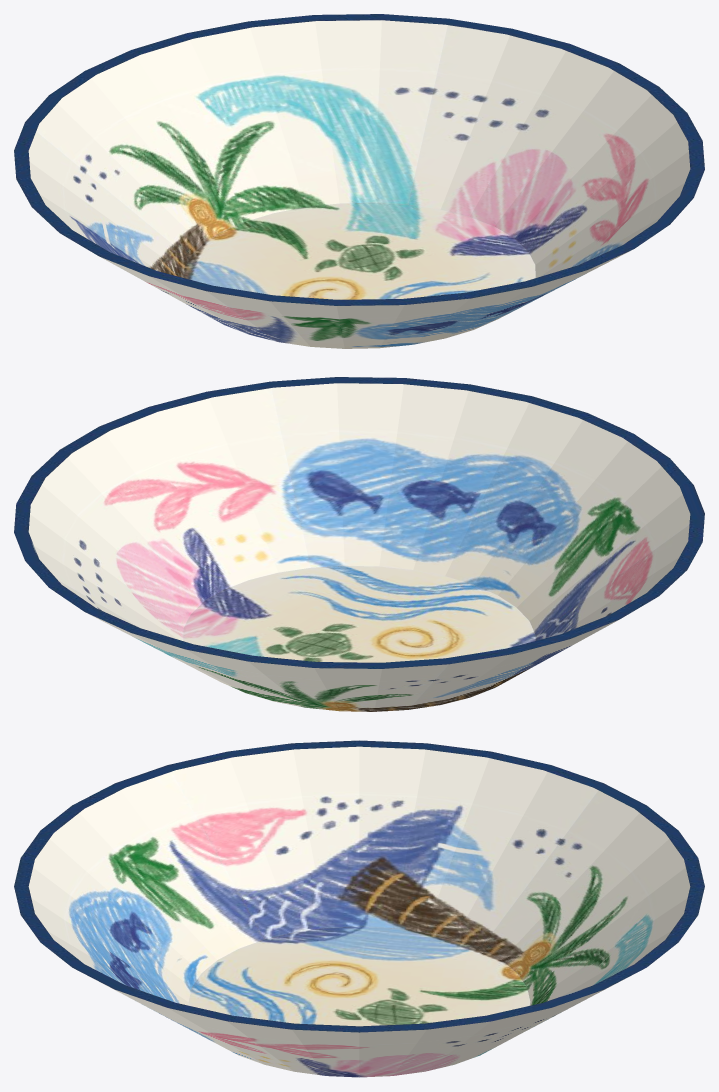
File: platoo.fbx
3 views of the same model, one above another, from view 1: azimuth 30°, elevation 25°; view 2: azimuth 150°, elevation 25°; view 3: azimuth 270°, elevation 25° (orthographic).
Visible parts, largest first — view 1: Cylinder; view 2: Cylinder; view 3: Cylinder.
Part boxes in pixels (left/top/right/bottom): Cylinder: left=14, top=14, right=704, bottom=348; Cylinder: left=14, top=377, right=704, bottom=711; Cylinder: left=14, top=740, right=704, bottom=1077.
Size of the model in its own units: 751 by 139 by 751.
Materials: 1 (1 with a texture image).
